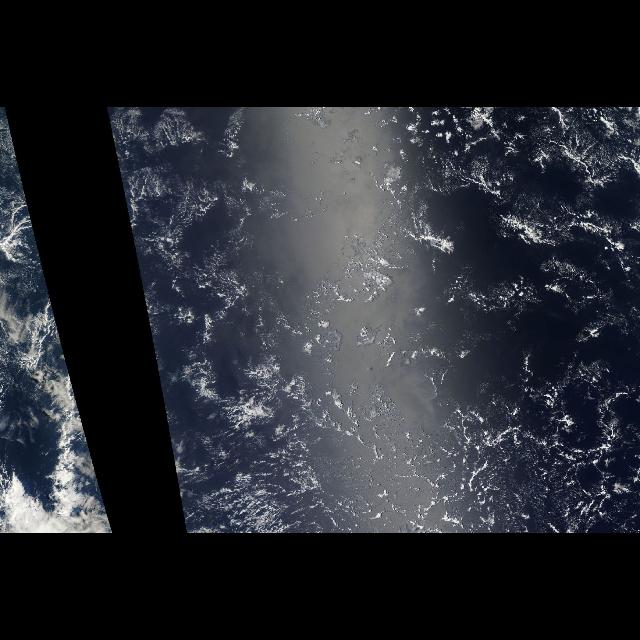Gravel: (372, 131, 634, 524)
